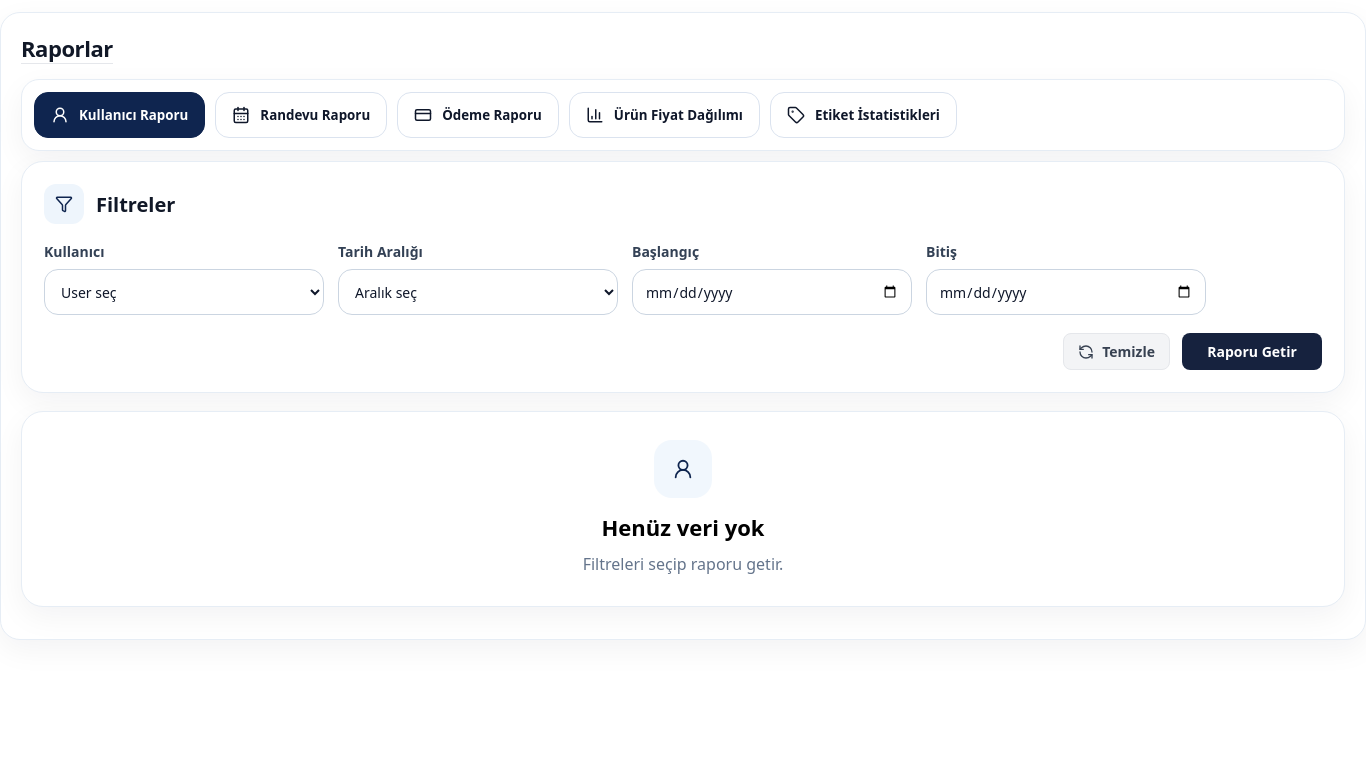
Test: ReportsPage › reset › clears the fetched report and returns to the empty state
Step 1. Click the button "Randevu Raporu" → (301, 115), box [215,92,387,138]
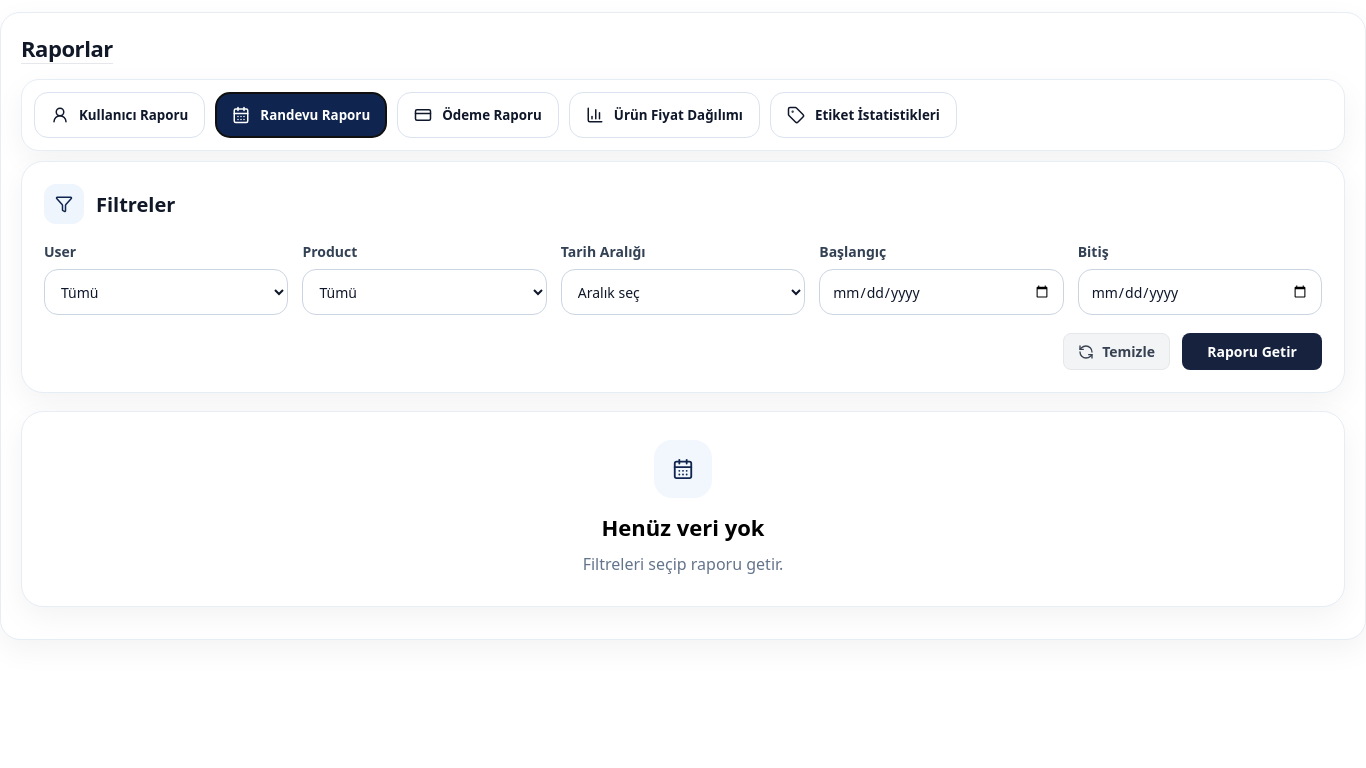
Step 2. Click the button "Raporu Getir" → (1252, 352), box [1182,333,1322,370]
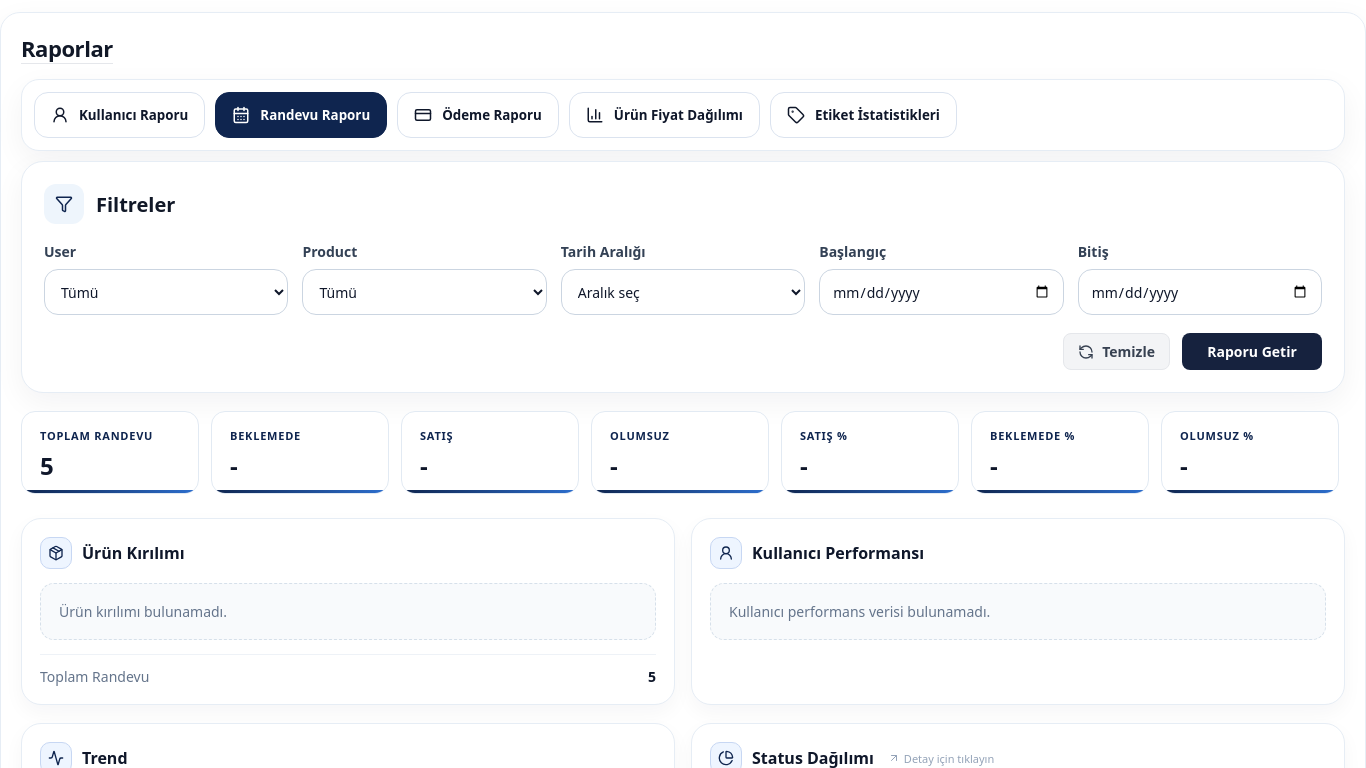
Step 3. Click the button "Temizle" → (1117, 352), box [1063,333,1170,370]
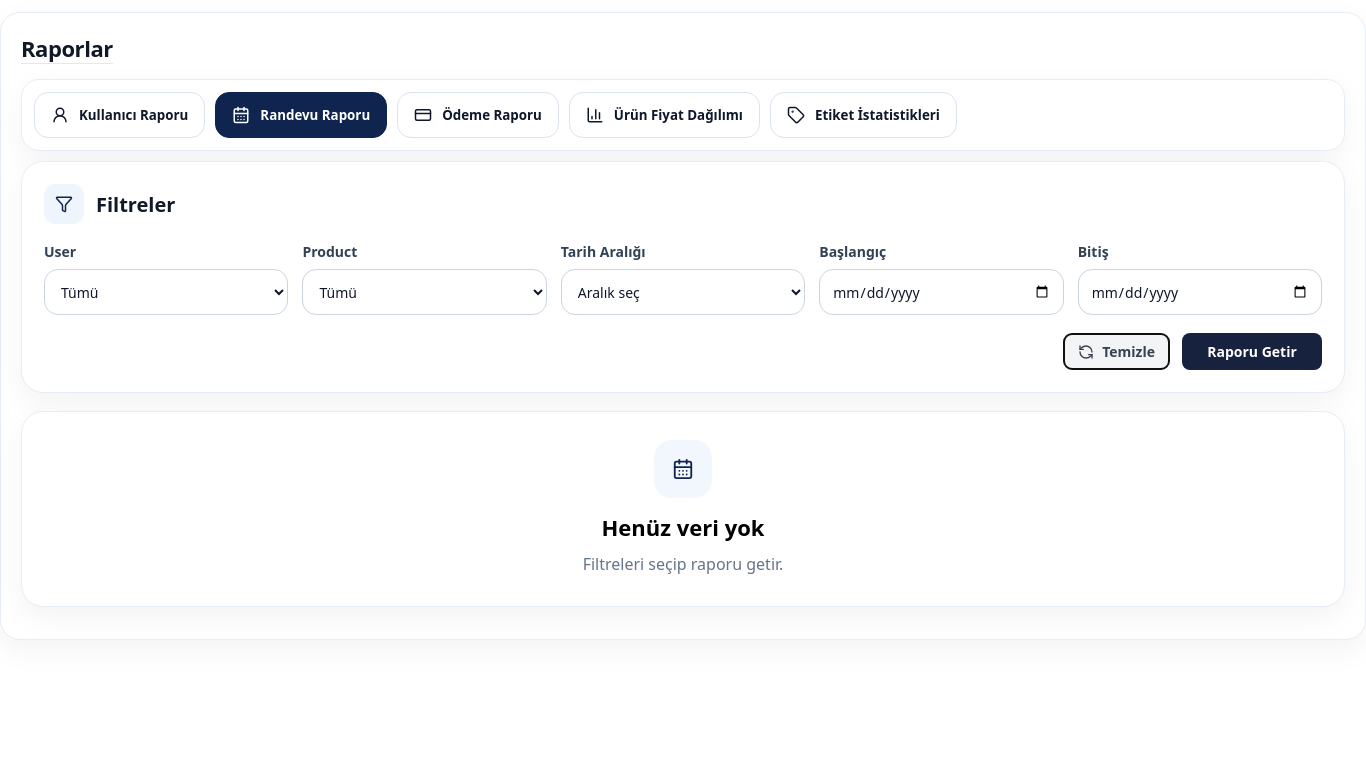
Now the heading "Henüz veri yok" is shown, box [602,512,764,542]
